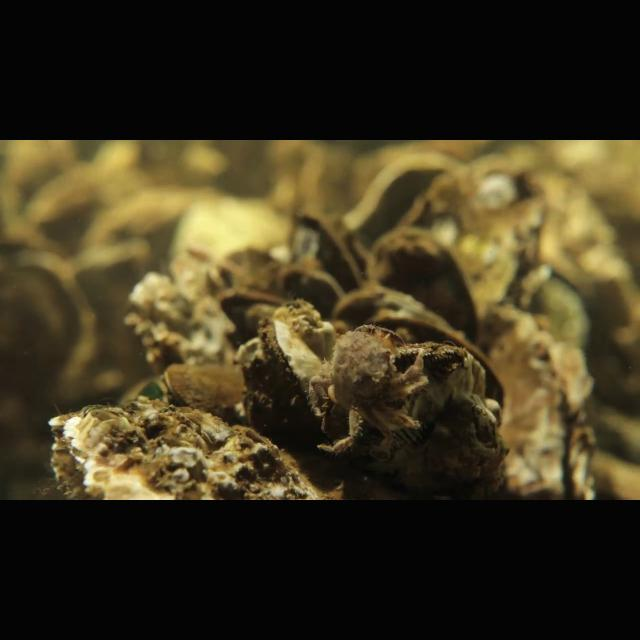Oyster-Closed: (38, 399, 338, 500), (488, 306, 598, 497), (258, 314, 322, 418), (162, 364, 247, 428)
